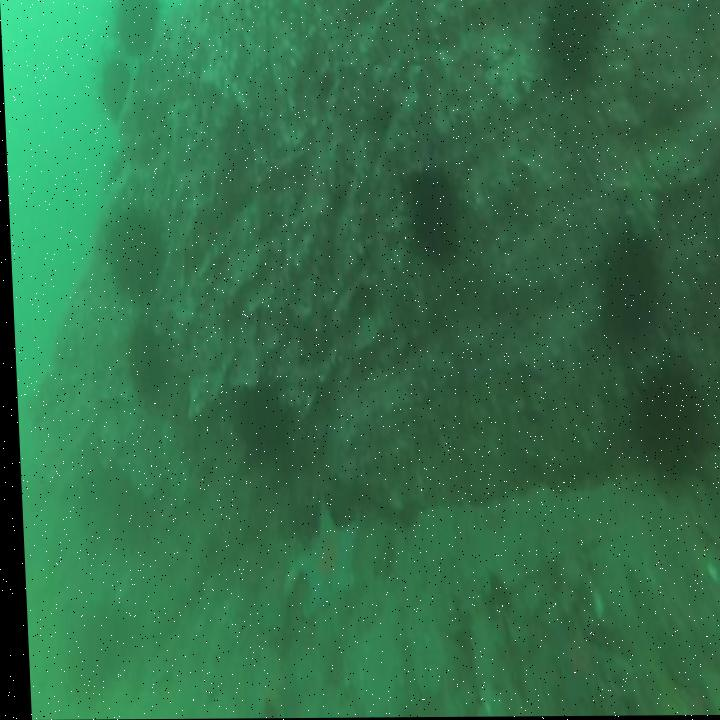echinus: (584, 210, 671, 377), (623, 346, 711, 492), (396, 165, 467, 271), (101, 207, 169, 305), (539, 0, 611, 88), (225, 386, 291, 477), (116, 312, 165, 406), (91, 43, 136, 129), (107, 0, 163, 67)
starfish: (279, 494, 363, 624), (534, 610, 602, 717)
